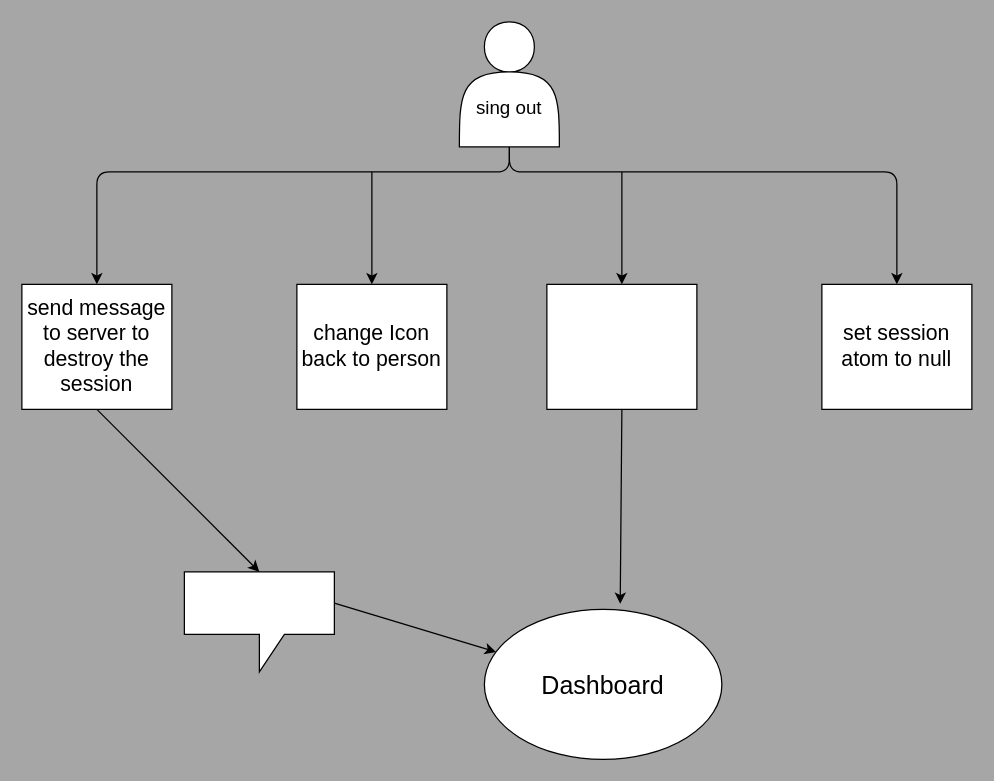
The diagram is 994 pixels wide and 781 high, and some of its shapes have lost their labels. Each missing label, with the box of its shape:
Display sign out message: (183, 571, 334, 672)
route to dashboard: (546, 283, 697, 409)
